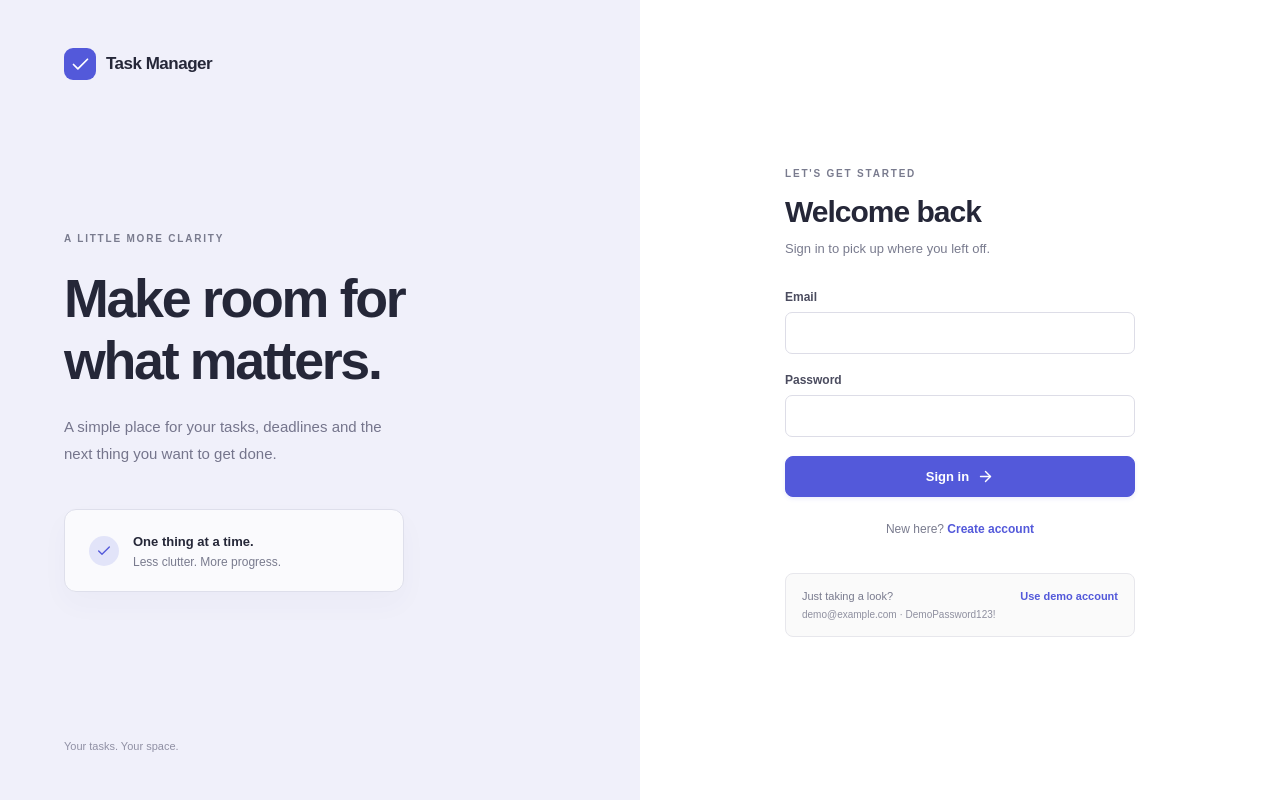
it: Application flows › registers before signing in and loading the private list
Click the button "Create account": (991, 529) [947,520,1034,539]
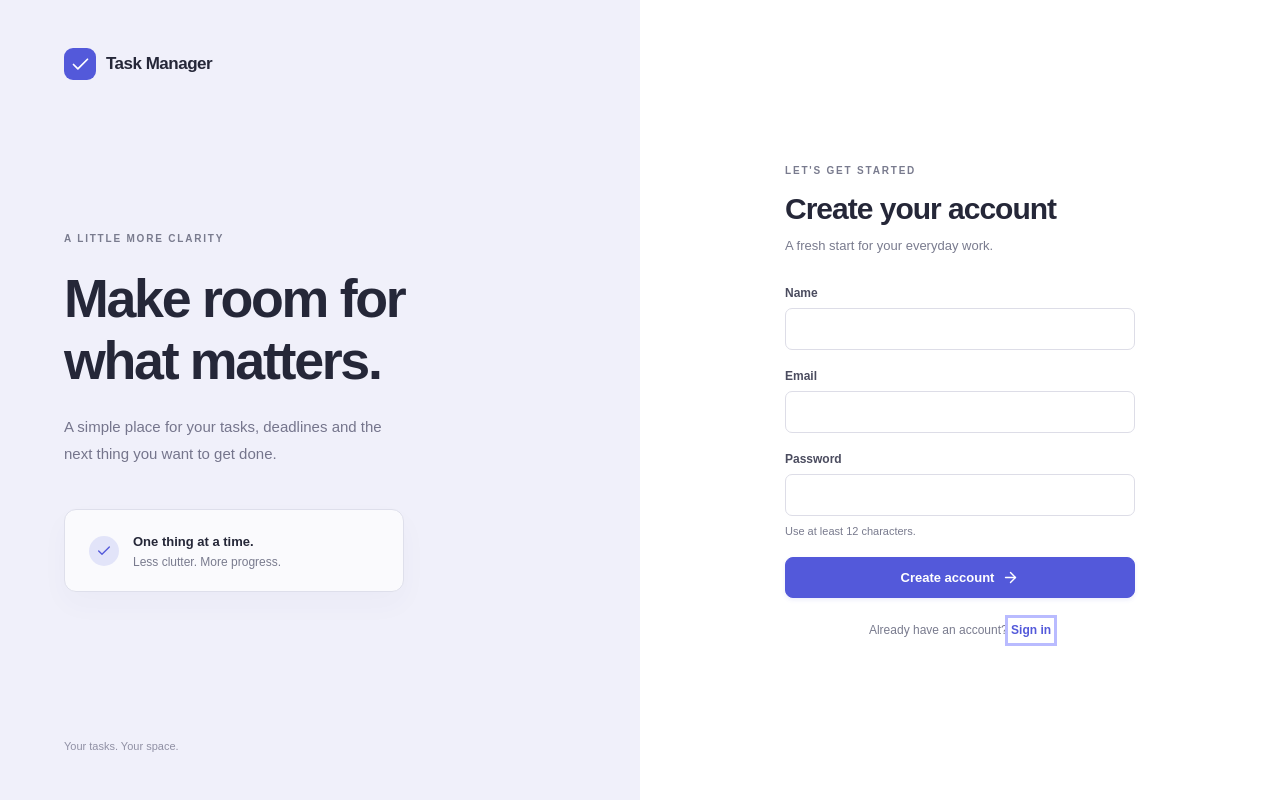
In the field labelled "Name": (960, 329) [785,308,1135,350], type "Alex"
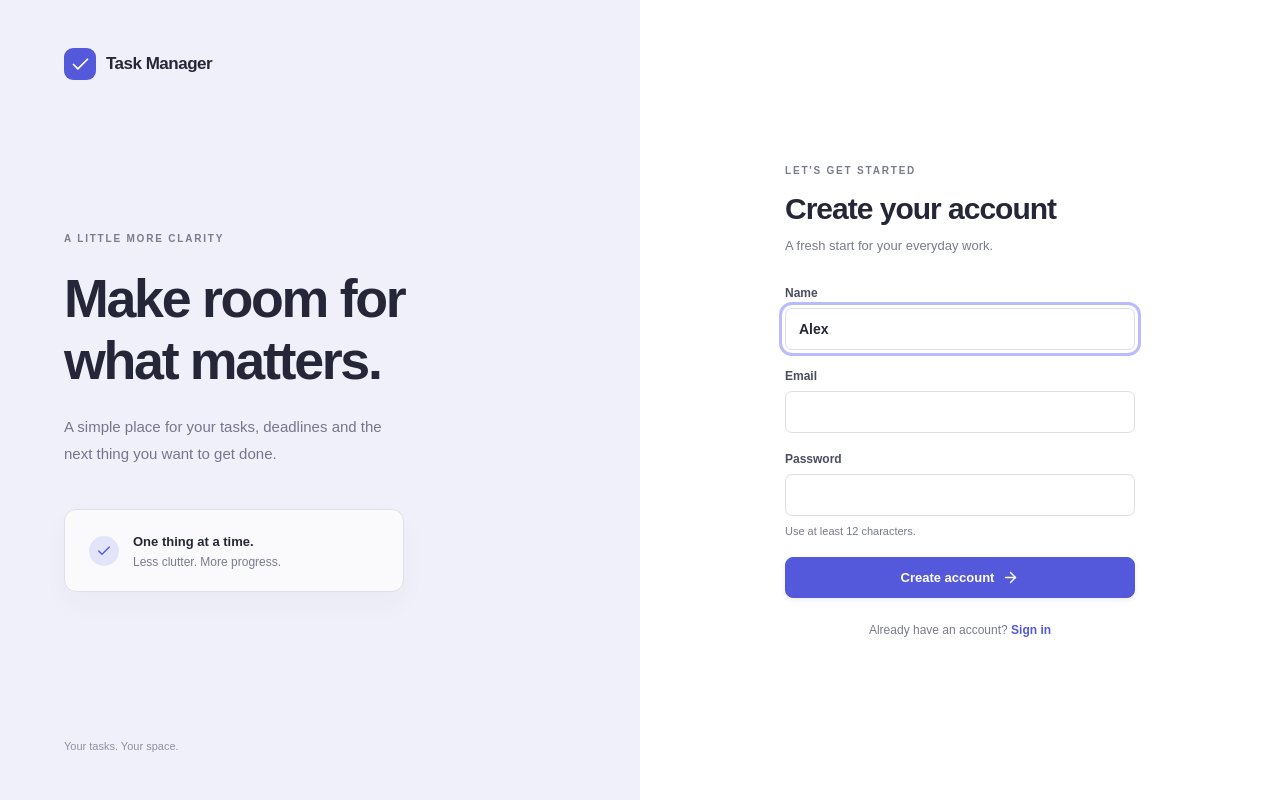
In the field labelled "Email": (960, 412) [785,391,1135,433], type "alex@example.com"
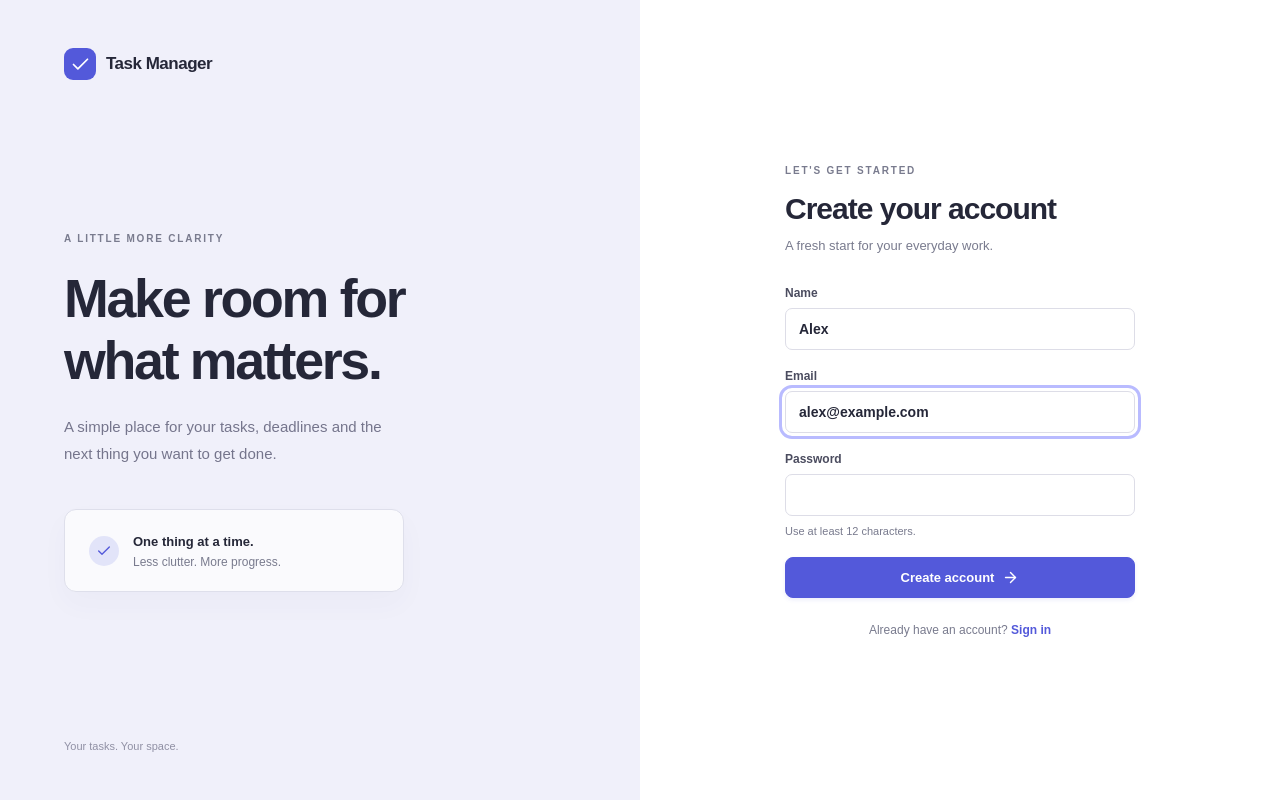
In the password field labelled "Password": (960, 495) [785,474,1135,516], type "StrongPassword!"
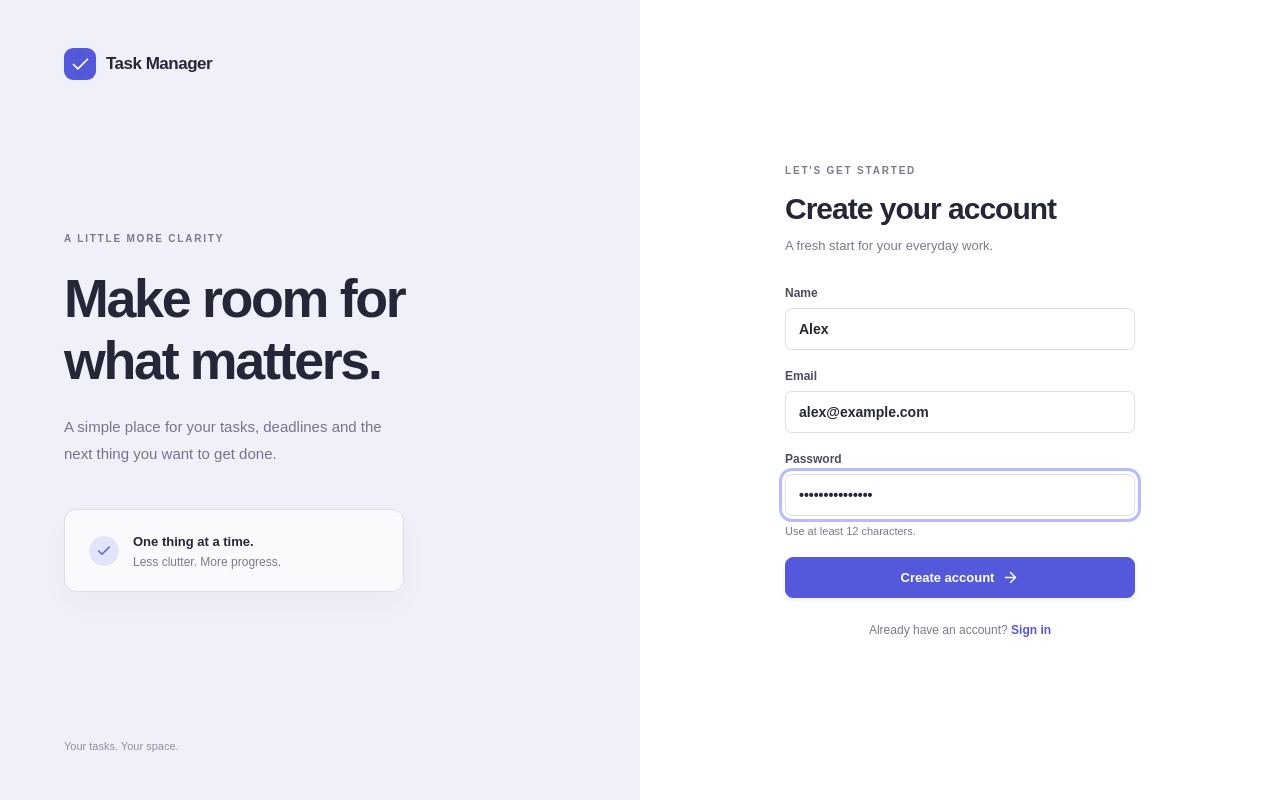
Click the button "Create account": (960, 578) [785,557,1135,598]
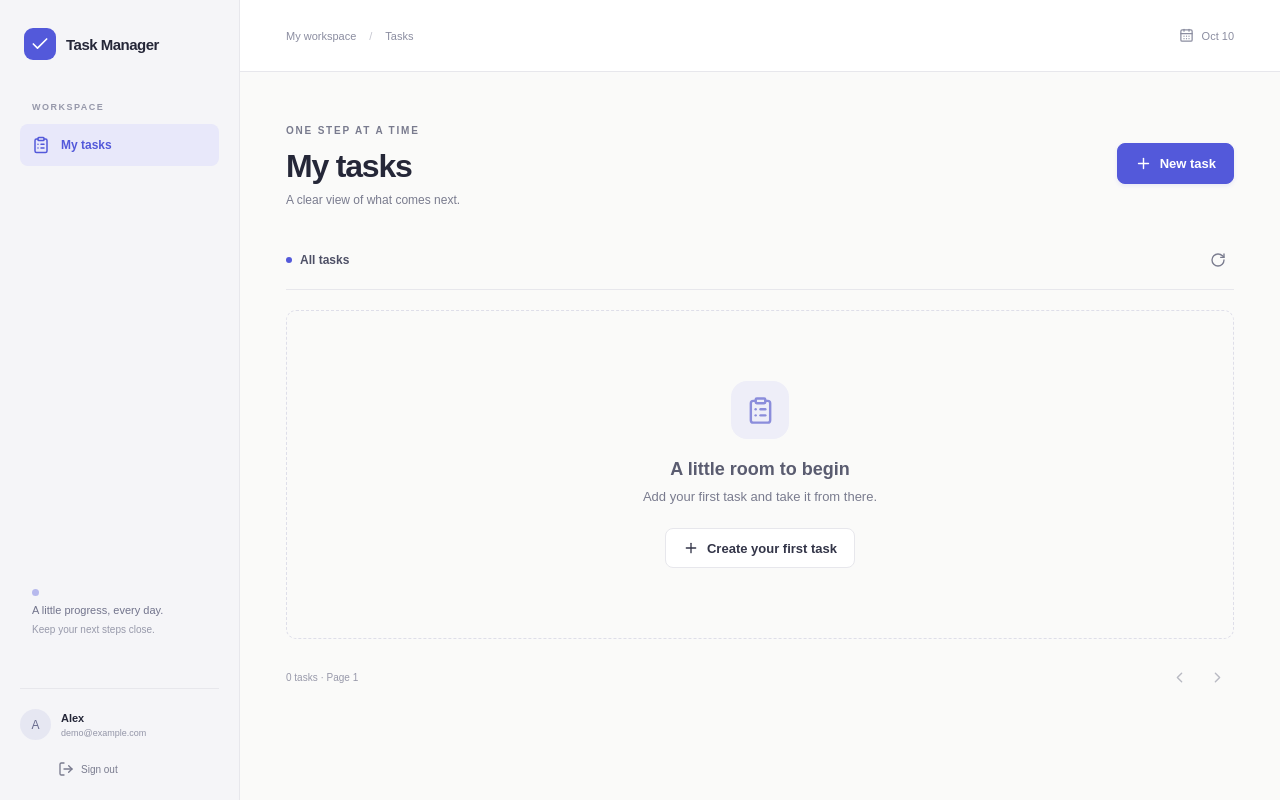
Now the heading "My tasks" is shown, box [286,148,412,184]
